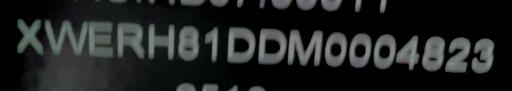letter: (42, 16, 86, 57), (286, 27, 324, 68), (10, 15, 44, 56), (256, 23, 288, 66), (86, 17, 116, 58), (226, 24, 256, 65), (116, 21, 146, 60), (146, 23, 176, 62), (470, 36, 498, 75), (348, 31, 372, 70), (372, 31, 396, 70), (397, 32, 421, 71), (421, 34, 445, 73), (446, 34, 470, 73), (202, 23, 224, 62), (178, 24, 200, 61), (326, 30, 346, 67)
